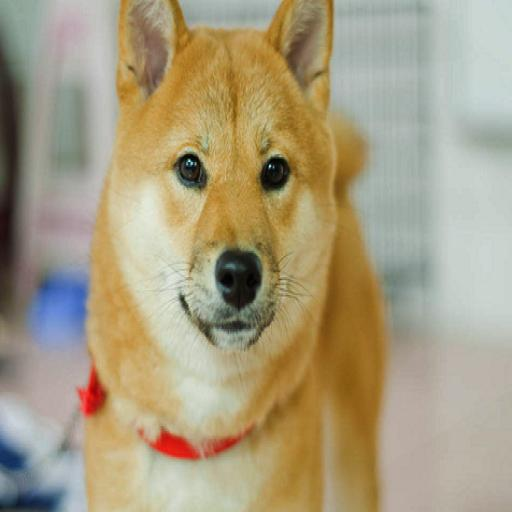dog_face: (114, 4, 324, 349)
